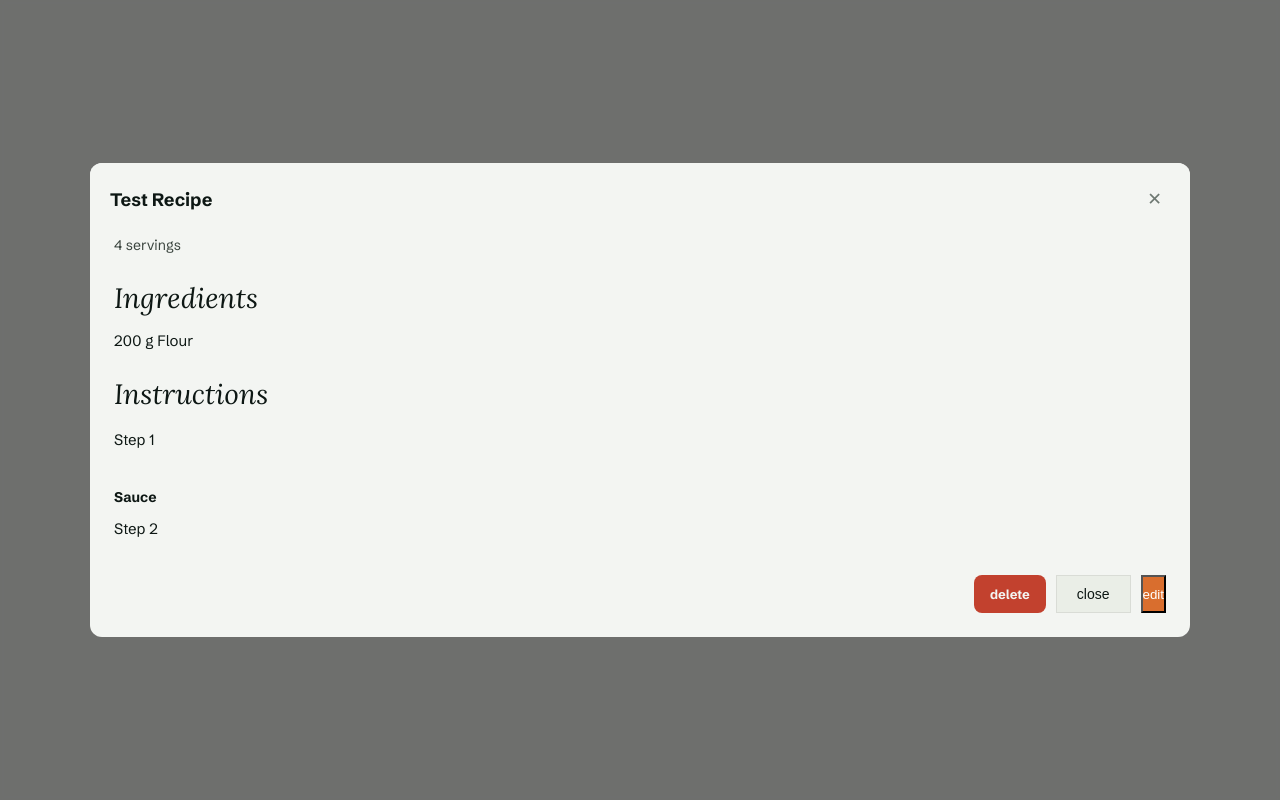
RecipeForm delete › shows confirm prompt when delete is clicked
Click the button "delete": (1010, 594) [974,575,1046,613]
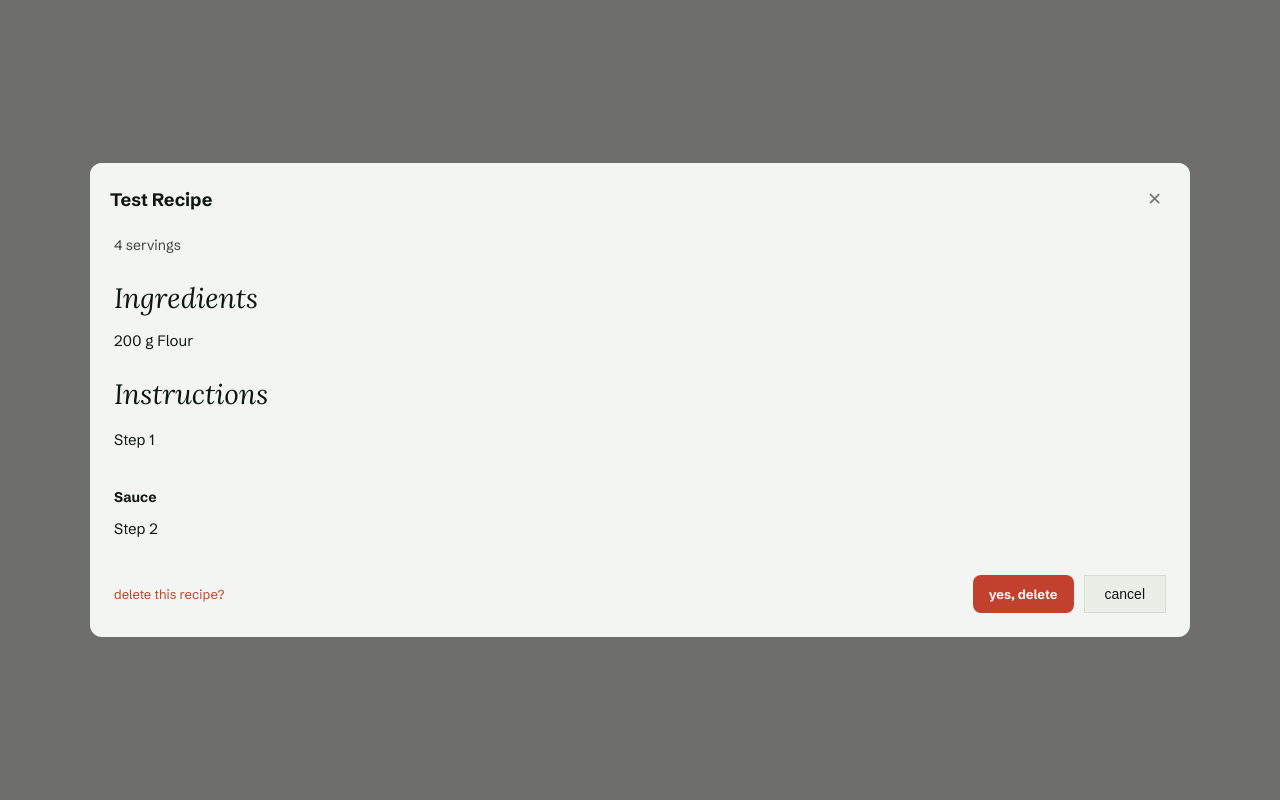
Expected: the text "delete this recipe?" is shown, [114,585,224,604]
Expected: the button "yes, delete" is shown, [973,575,1074,613]
Expected: the button "cancel" is shown, [1084,575,1166,613]
